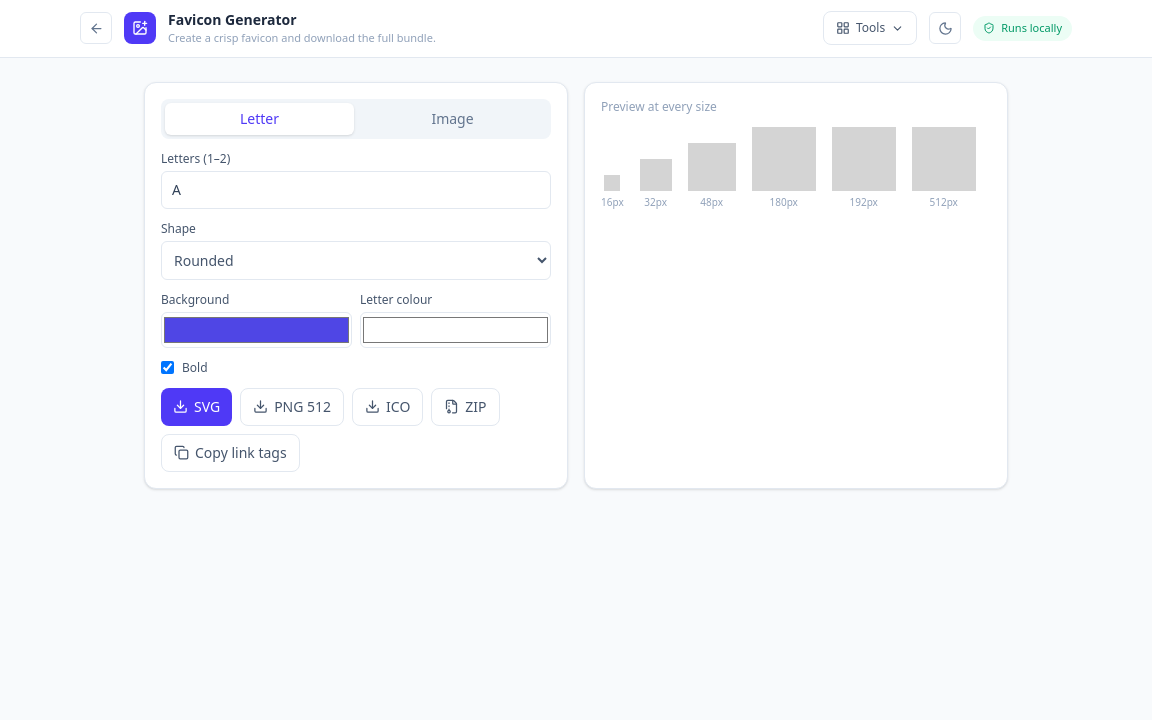
Test: FaviconApp › shows the upload control in image mode
Click the button "Image" at (452, 118), box [358,102,547,134]
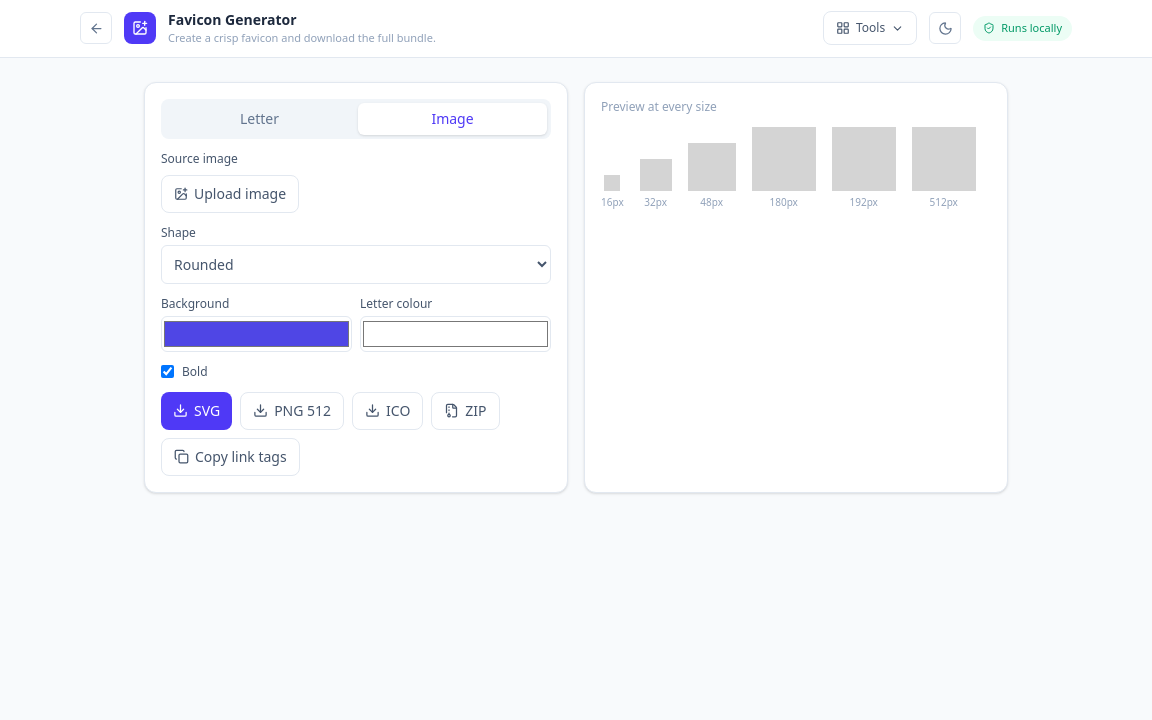
Now the file field named "Upload image" is shown, box [161,150,238,166]
